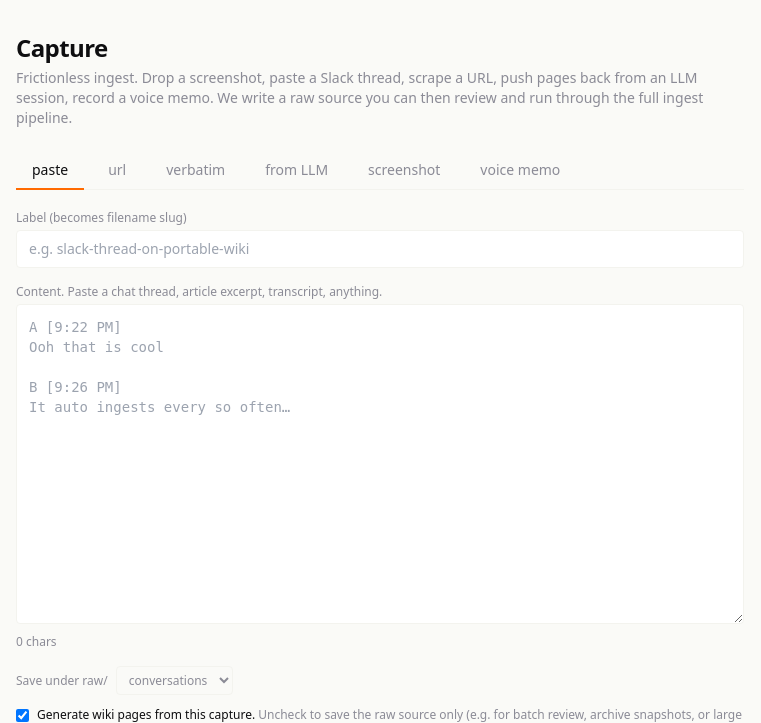
Test: Capture page — verbatim tab › rewrites the preview path when a slug override is typed
Click the button "verbatim" at x=196, y=171, box [150,152,241,190]
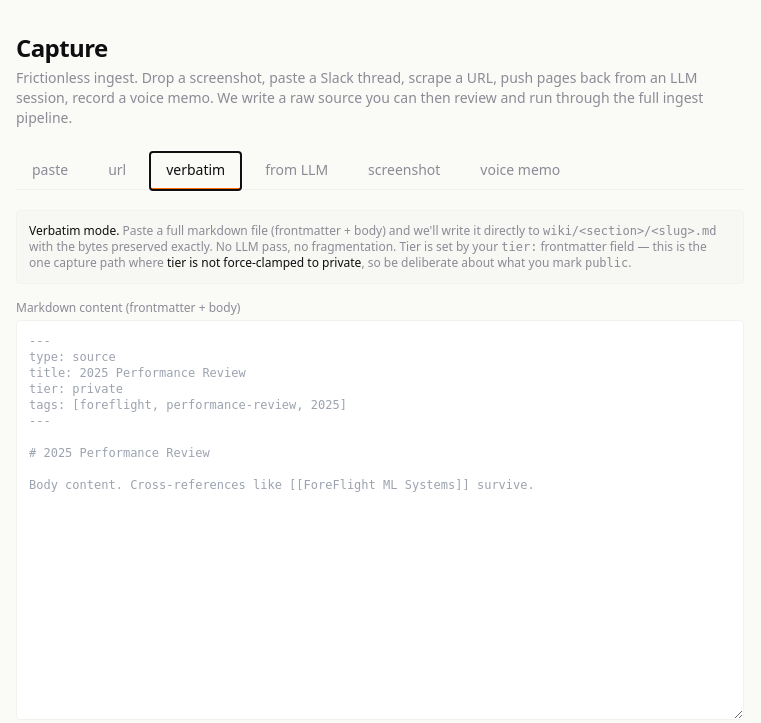
Click the text box with test id "verbatim-content-input" at x=380, y=520, box [16,320,744,720]
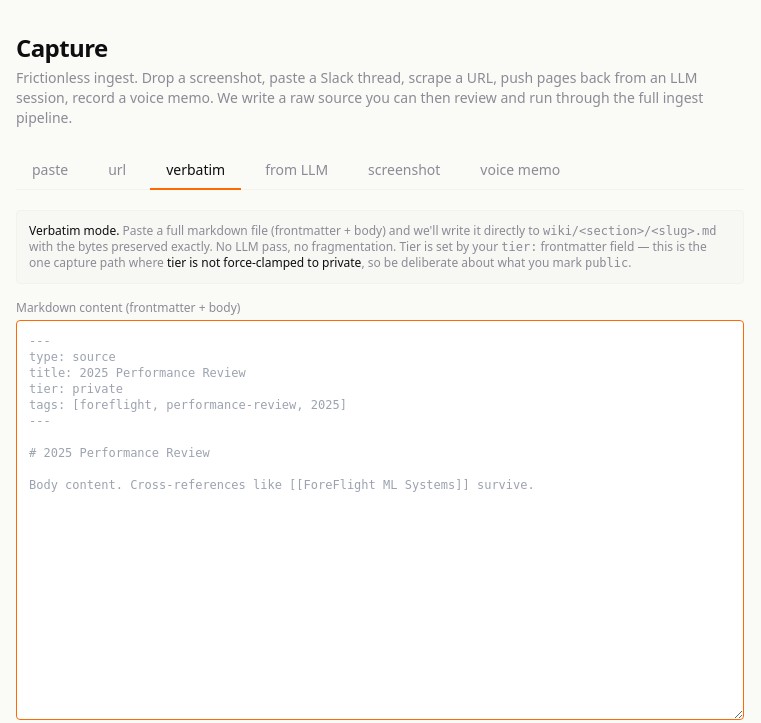
Type keys "--- type: source title: 2025 Performance Review tier: private tags: [foreflight, performance-review, 2025] --- # 2025 Performance Review Body content. Cross-references like [ [ForeFlight ML Systems]] s"
(page scrolled)
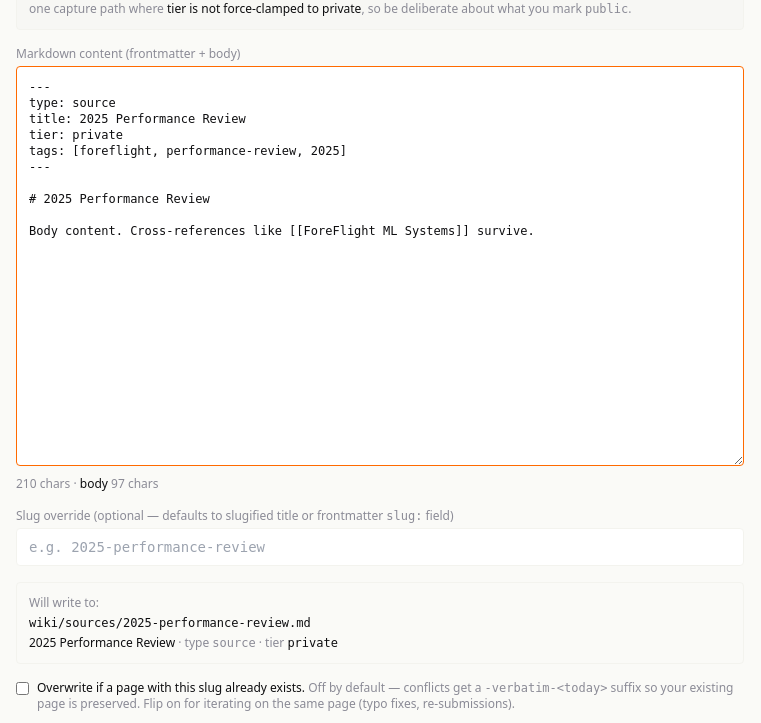
Expected: the element with test id "verbatim-preview" shows "wiki/sources/2025-performance-review.md", [29,616,311,630]
Type "perf-review-2025" into the field with test id "verbatim-slug-input" at x=380, y=547, box [16,528,744,566]
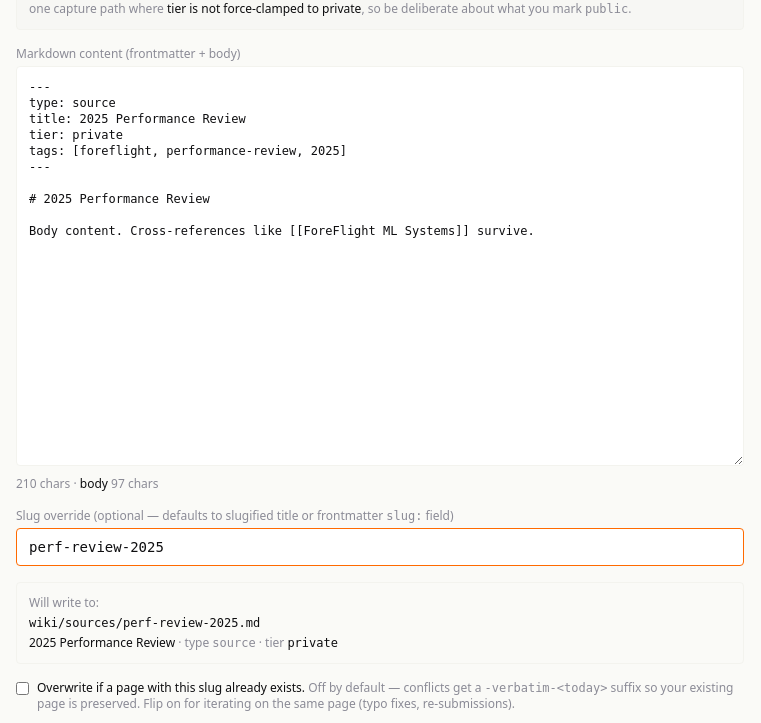
Expected: the element with test id "verbatim-preview" shows "wiki/sources/perf-review-2025.md", [29,616,260,630]
